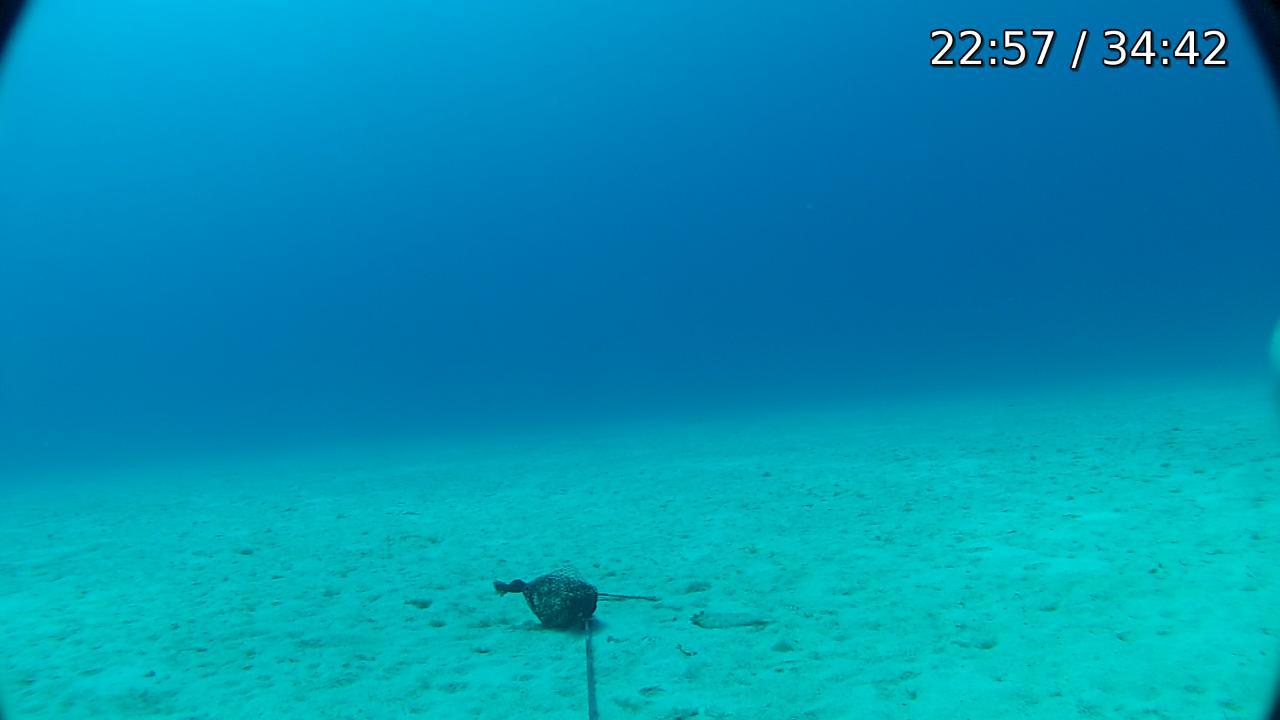bothus: (686, 606, 780, 630)
